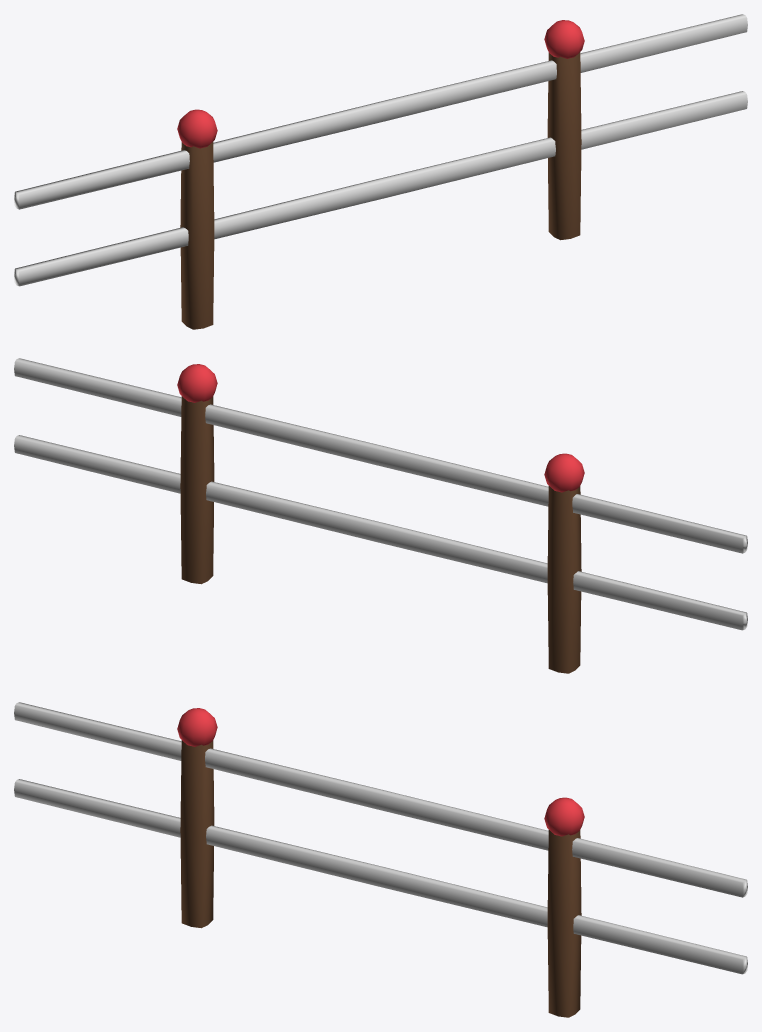
The model's file is RockinRacewayFence.obj.
The picture shows the model from 3 angles, top to bottom: view 1: azimuth 30°, elevation 25°; view 2: azimuth 150°, elevation 25°; view 3: azimuth 330°, elevation 25°; orthographic projection.
Visible parts, largest first — view 1: Rails, Posts, Caps; view 2: Rails, Posts, Caps; view 3: Rails, Posts, Caps.
Boxes of the visible parts, x1,y1,x2,y2 form: Rails: (14, 14, 747, 286); Posts: (180, 52, 581, 329); Caps: (177, 20, 584, 148); Rails: (14, 358, 747, 630); Posts: (180, 396, 581, 673); Caps: (177, 364, 584, 492); Rails: (14, 702, 747, 974); Posts: (180, 740, 581, 1017); Caps: (177, 708, 584, 836).
Size of the model in its own units: 9.96 by 2.79 by 0.4566.
